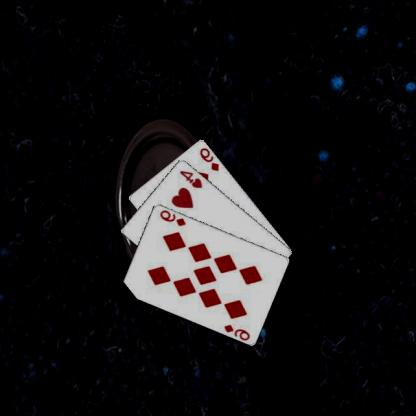4H: (179, 167, 205, 189)
9D: (199, 144, 222, 172), (158, 207, 188, 227), (223, 322, 253, 342)
